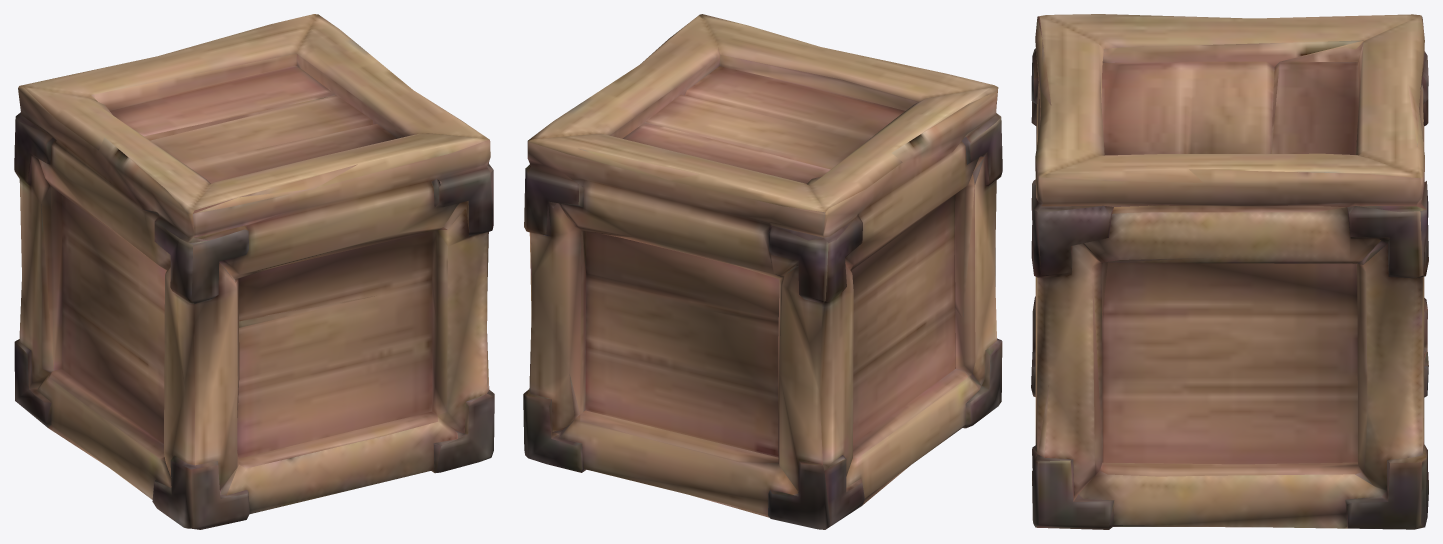
Rendered from crate.glb.
3 views of the same model, side by side, from view 1: azimuth 30°, elevation 25°; view 2: azimuth 150°, elevation 25°; view 3: azimuth 270°, elevation 25° (orthographic). The views are drawn at different scales.
Visible parts, largest first — view 1: Mesh1.0; view 2: Mesh1.0; view 3: Mesh1.0.
Part boxes in pixels (bbox=[...]): Mesh1.0: bbox=[14, 14, 494, 529]; Mesh1.0: bbox=[523, 14, 1002, 529]; Mesh1.0: bbox=[1031, 14, 1428, 529].
Bounding box in the file's own units: 1.91 × 1.9 × 1.91.
1 material, 1 textured.
